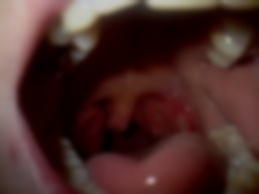Ulcer: (174, 107, 196, 133)
